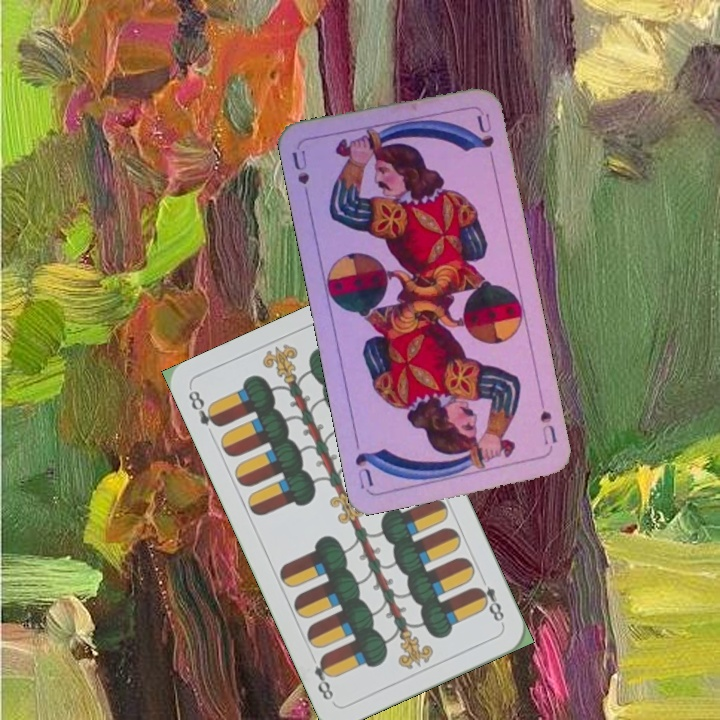E8: (471, 572, 507, 628), (184, 386, 224, 430)
SU: (287, 146, 312, 205), (536, 406, 560, 452)
